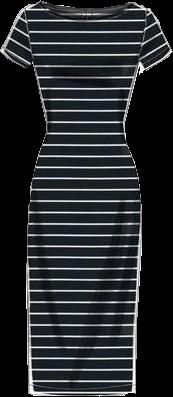Bodice: (24, 0, 148, 136)
Hemline: (28, 389, 135, 396)
Neckline: (39, 2, 132, 22)
Skirt: (27, 135, 141, 396)
Sleeve: (136, 9, 172, 75), (0, 5, 32, 68)
Sleeveline: (21, 6, 36, 63), (136, 9, 149, 68)
